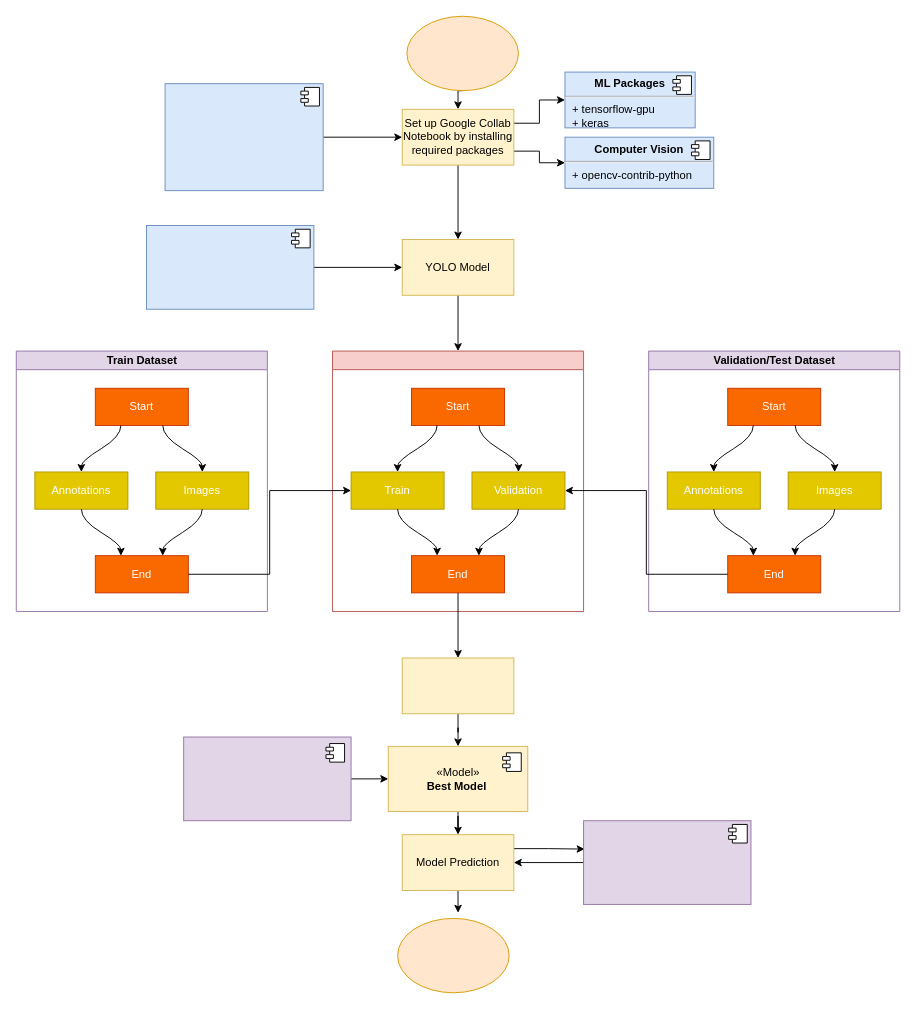
The diagram is 916 pixels wide and 1009 high, and some of its shapes have lost their labels. Each missing label, with the box of its shape:
Build Dataset: (332, 350, 584, 611)
Component + Box Coordinate Extraction Algorithm: (583, 820, 751, 904)
Object Detection + imageai: (146, 225, 314, 309)
Object Detection in Aerial Imagery: (406, 15, 518, 91)
Scientific Packages + Numpy + h5py + scikit-learn + Pillow + Imutils: (164, 83, 323, 191)
Successful Object Detection: (397, 917, 509, 993)
Trained Models: (401, 657, 514, 714)
«ROI» Aerial Image (scales:14-17) Snipped from GEE: (183, 736, 351, 821)
